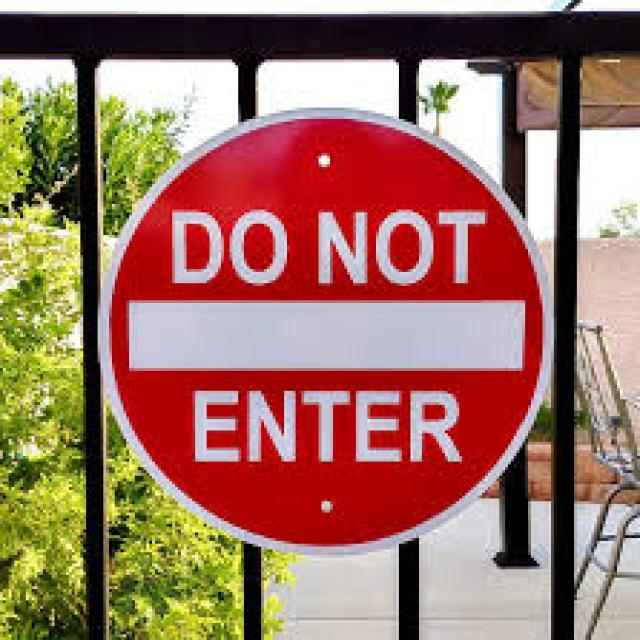doNotEnter: (97, 104, 554, 556)
